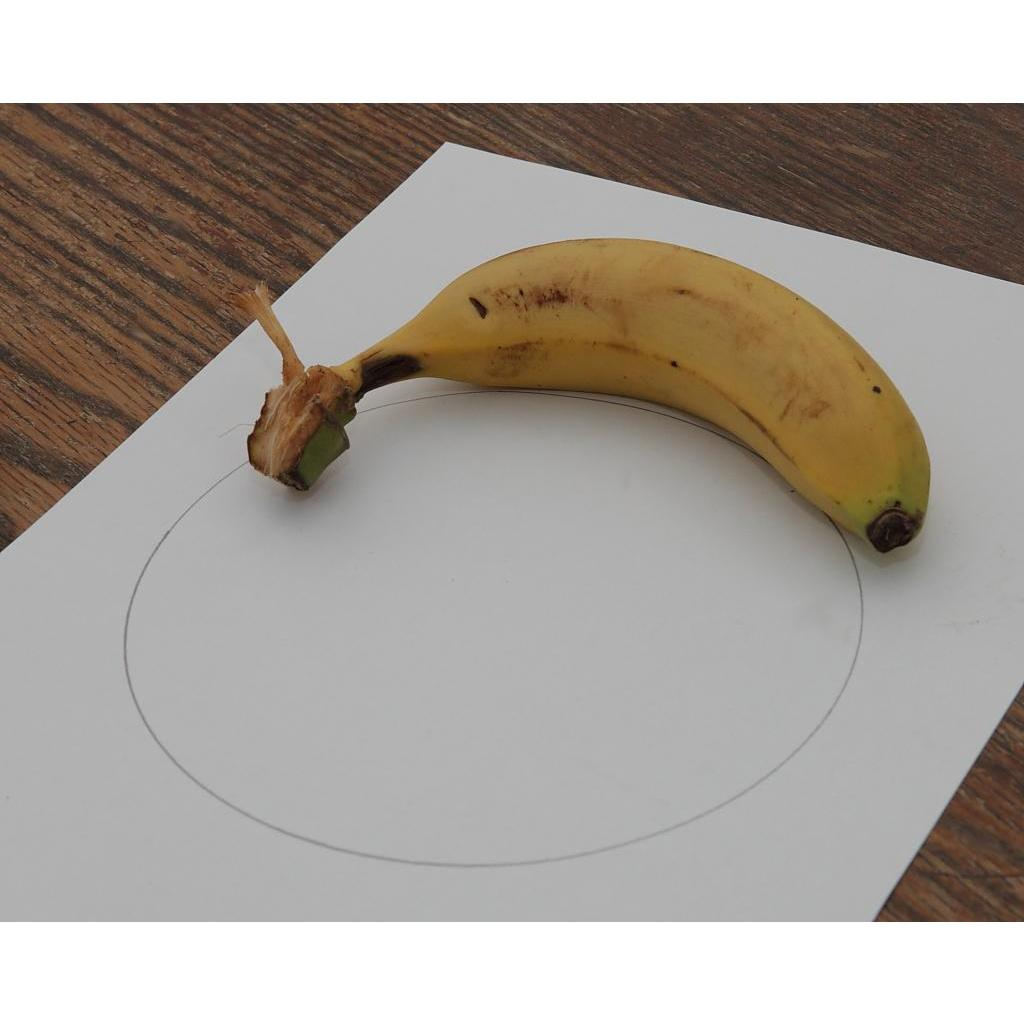banana: (247, 237, 932, 557)
